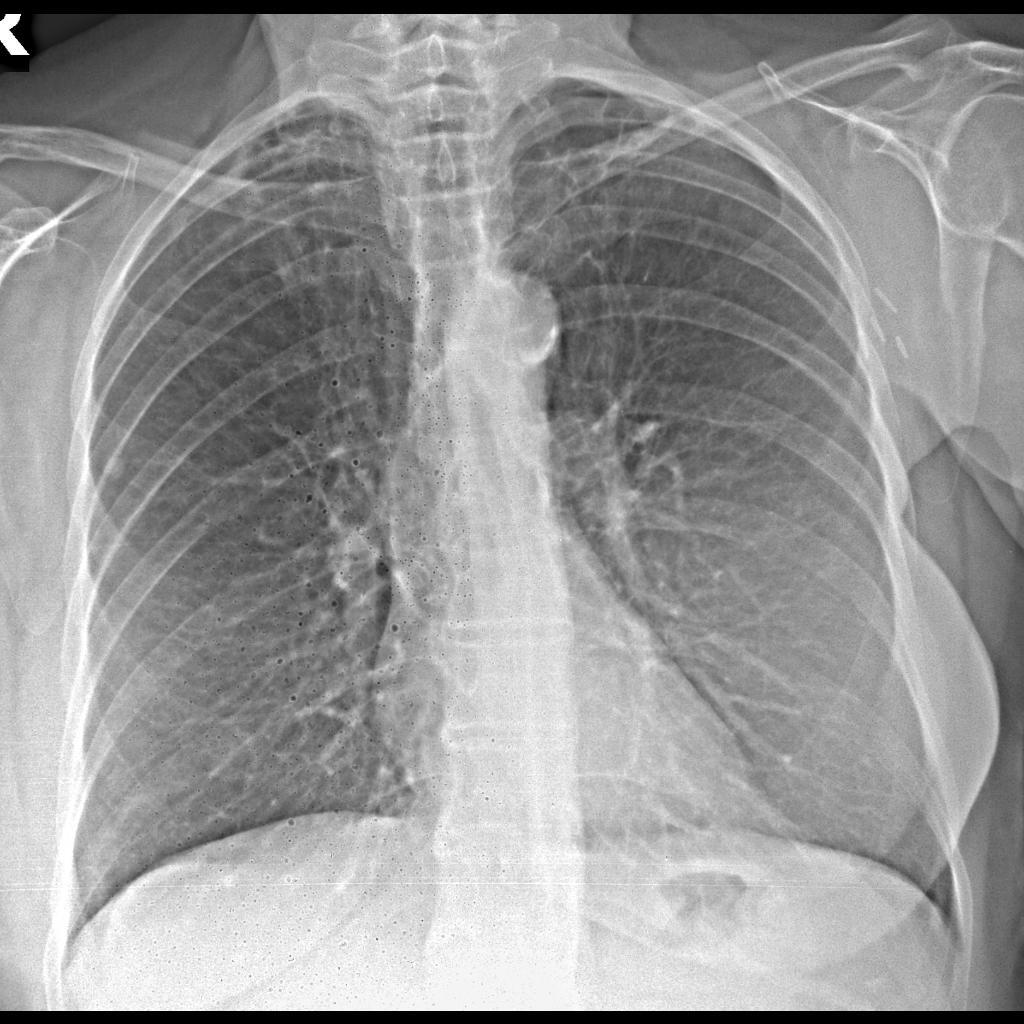Nodule: (99, 449, 131, 496)
